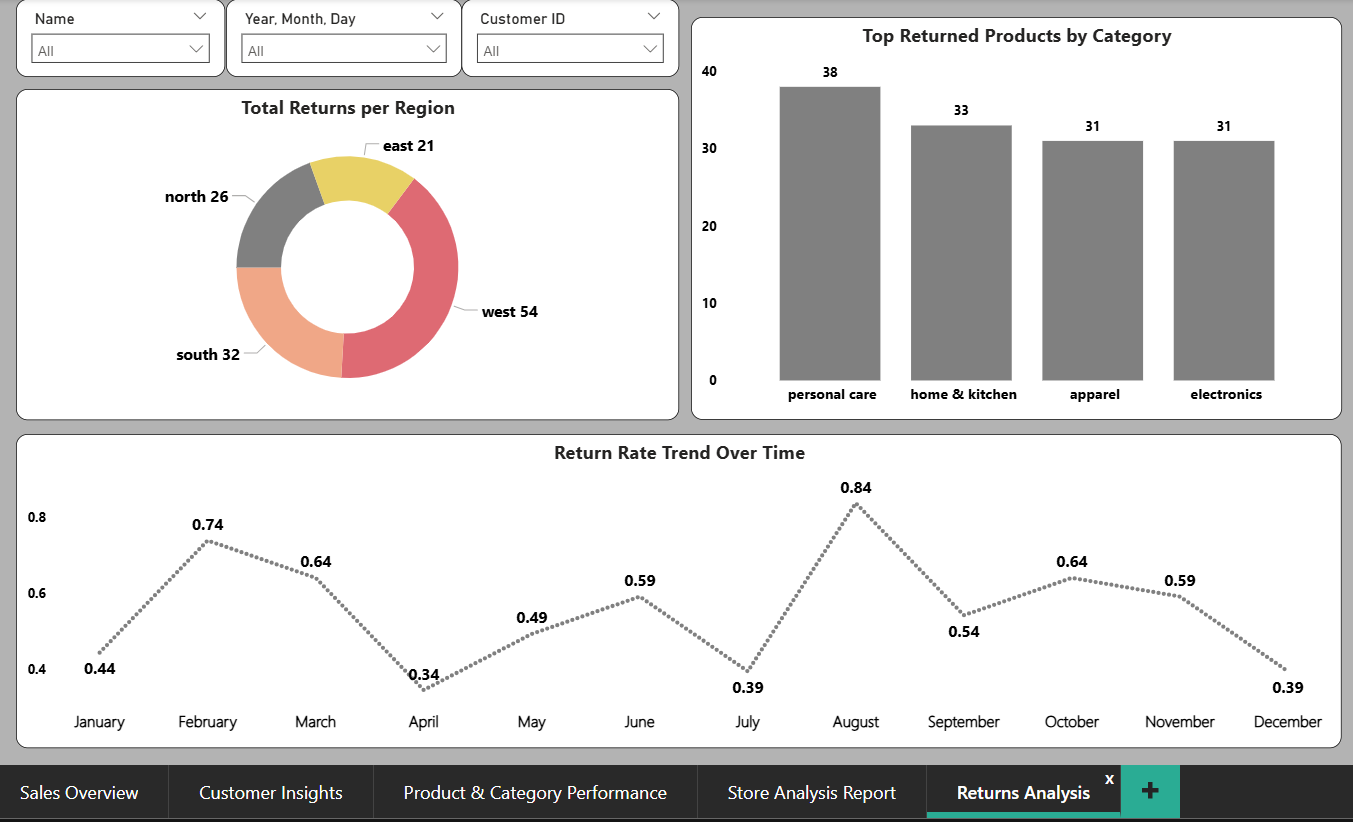

The dashboard page shown, as its layout file describes it:
{"tool":"powerbi","page":{"name":"Returns Analysis","canvas":[1280,720],"ordinal":4},"visuals":[{"type":"columnChart","title":"Top Returned Products by Category ","fields":{"Category":["retail_store products.category"],"Y":["retail_store customers.Returns Count"]},"box":[651.8,17.6,611.9,378.6],"z":0},{"type":"donutChart","title":"Total Returns per Region ","fields":{"Y":["retail_store customers.Returns Count"],"Category":["retail_store stores.region"]},"box":[17.6,84.7,623.1,311.5],"z":2000},{"type":"lineChart","title":"Return Rate Trend Over Time","fields":{"Category":["retail_store returns.return_date.Variation.Date Hierarchy.Month"],"Y":["retail_store customers.Return Rate %"]},"box":[17.6,409,1246.2,295.6],"z":3000},{"type":"slicer","fields":{"Values":["retail_store customers.first_name"]},"box":[17.6,0,196.5,73.5],"z":4000},{"type":"slicer","fields":{"Values":["retail_store customers.signup_date.Variation.Date Hierarchy.Year","retail_store customers.signup_date.Variation.Date Hierarchy.Month","retail_store customers.signup_date.Variation.Date Hierarchy.Day"]},"box":[214.1,0,222.1,73.5],"z":5000},{"type":"slicer","fields":{"Values":["retail_store customers.customer_id"]},"box":[436.2,0,204.5,73.5],"z":6000}]}

Visuals, with their boxes on the page's 1280x720 design canvas (x1, y1, x2, y2). These are canvas units, not pixel positions in the 1353x822 screenshot, which may show the page scaled, cropped or inside an application window:
"Top Returned Products by Category " columnChart: select_region(652, 18, 1264, 396)
"Total Returns per Region " donutChart: select_region(18, 85, 641, 396)
"Return Rate Trend Over Time" lineChart: select_region(18, 409, 1264, 705)
slicer - retail_store customers.first_name: select_region(18, 0, 214, 74)
slicer - retail_store customers.signup_date.Variation.Date Hierarchy.Year x retail_store customers.signup_date.Variation.Date Hierarchy.Month: select_region(214, 0, 436, 74)
slicer - retail_store customers.customer_id: select_region(436, 0, 641, 74)
